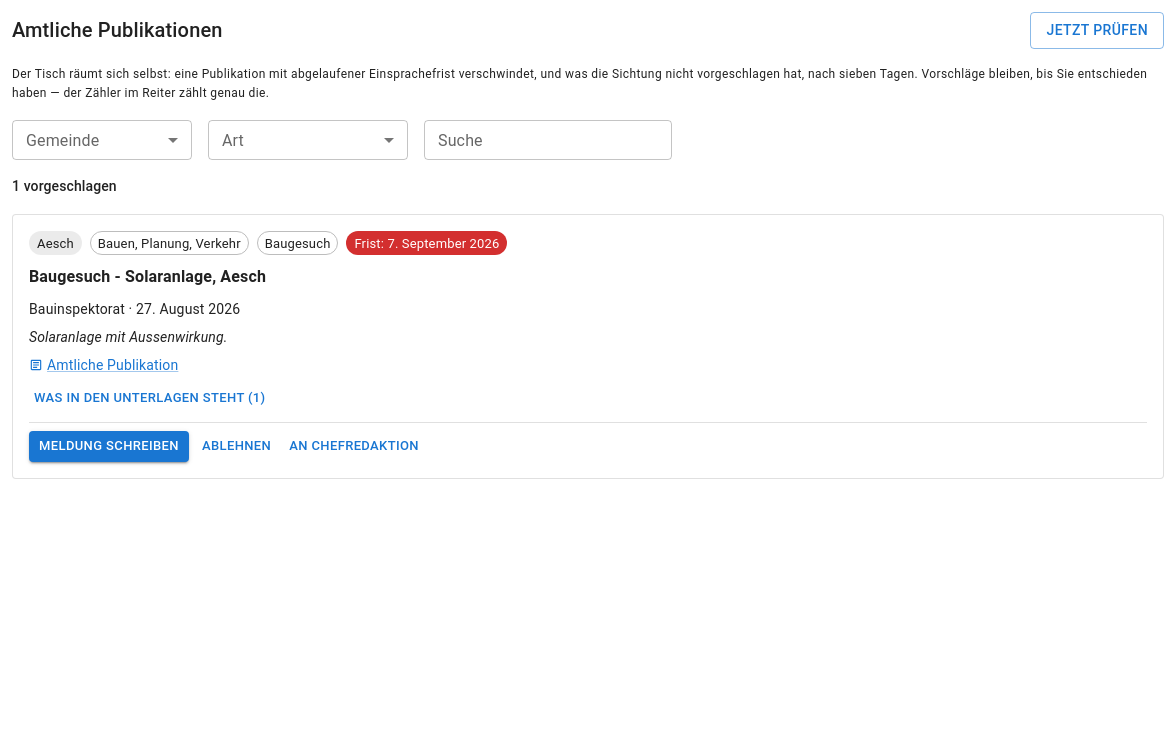
Amtsblatt › zeigt die Befunde aus den Plaenen auf Klick
What coordinates should you click on to do the following:
click the button "Was in den Unterlagen steht (1)"
I would click on:
 (150, 399)
Its box is [29,383,271,414].
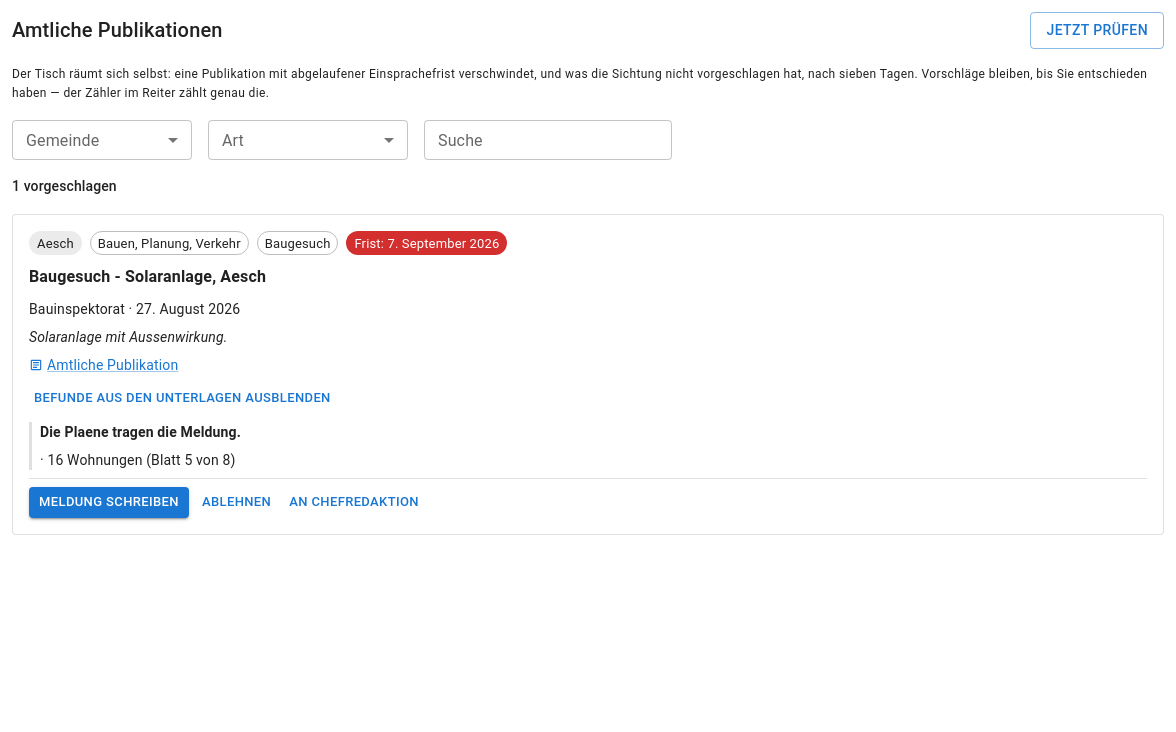
Now the text "Die Plaene tragen die Meldung." is shown, box [40,424,241,440]
Now the text "· 16 Wohnungen (Blatt 5 von 8)" is shown, box [40,452,236,468]
